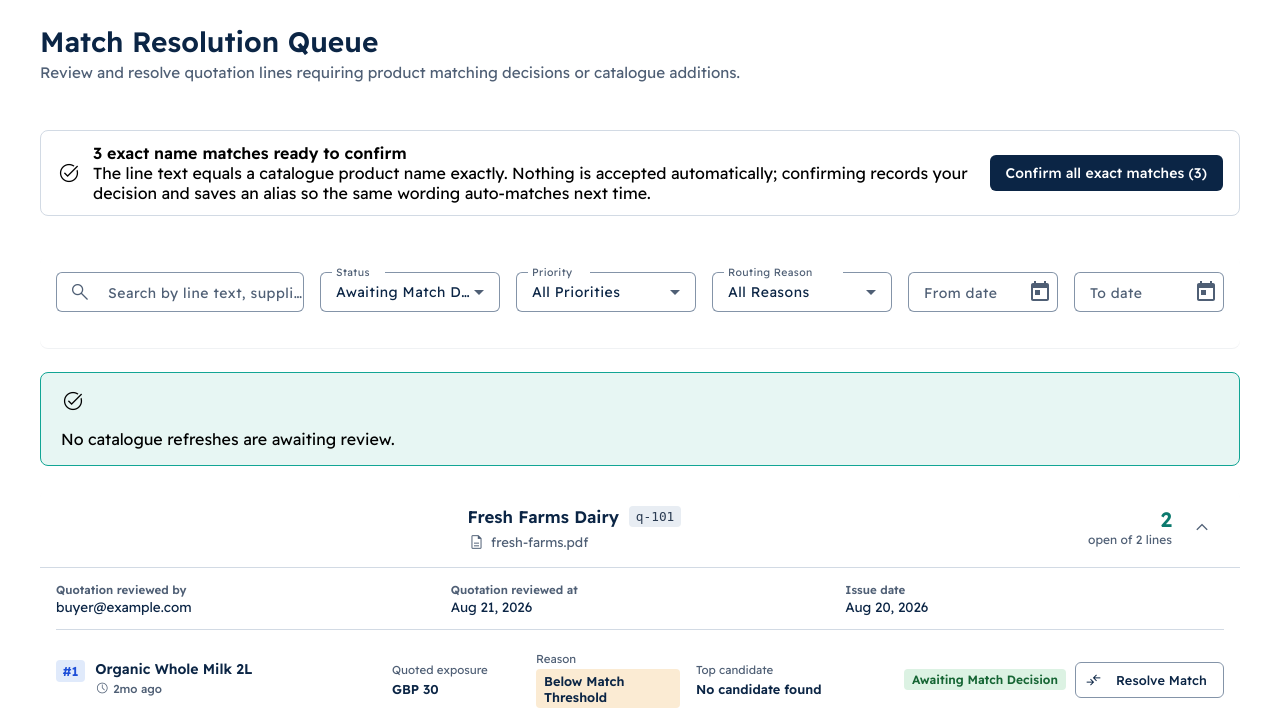
it: ResolutionQueueComponent › tells the buyer when exact matches were skipped instead of hiding it
Click the button with test id "confirm-exact-btn" at (1106, 173), box [990,155,1223,191]
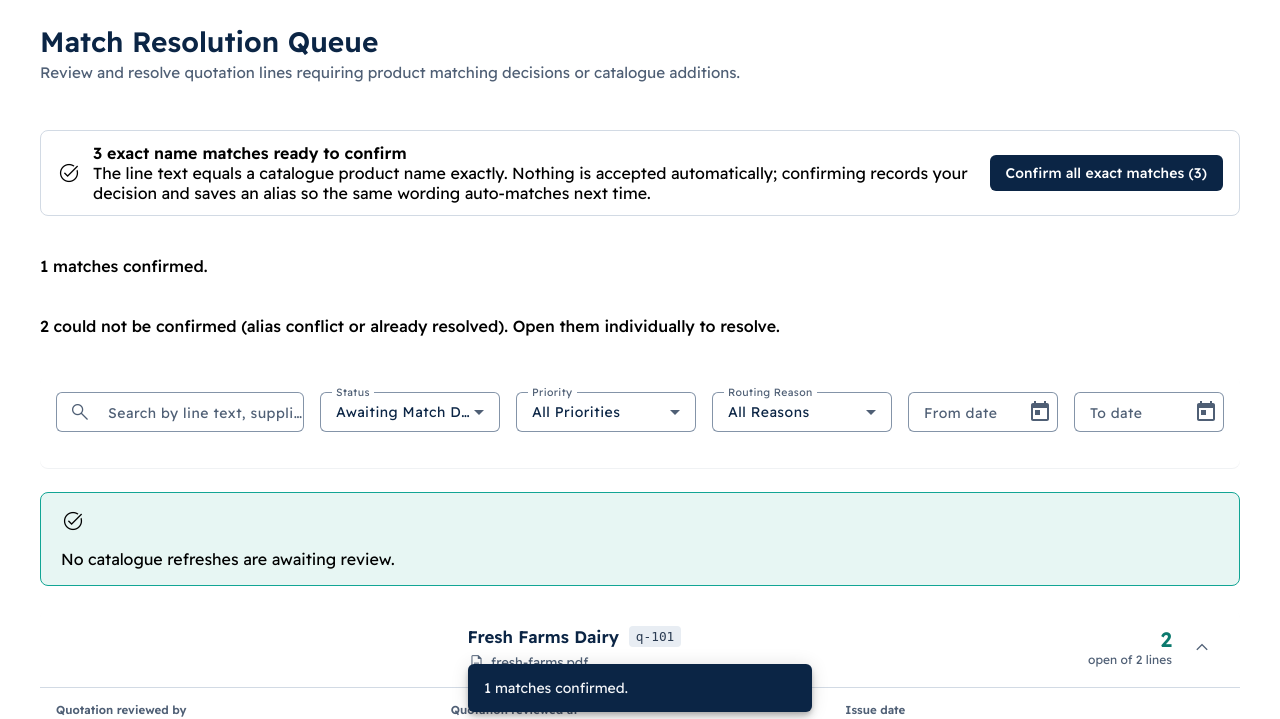
Expected: the message with test id "exact-match-skipped" shows "2 could not be confirmed", [40,316,780,336]
